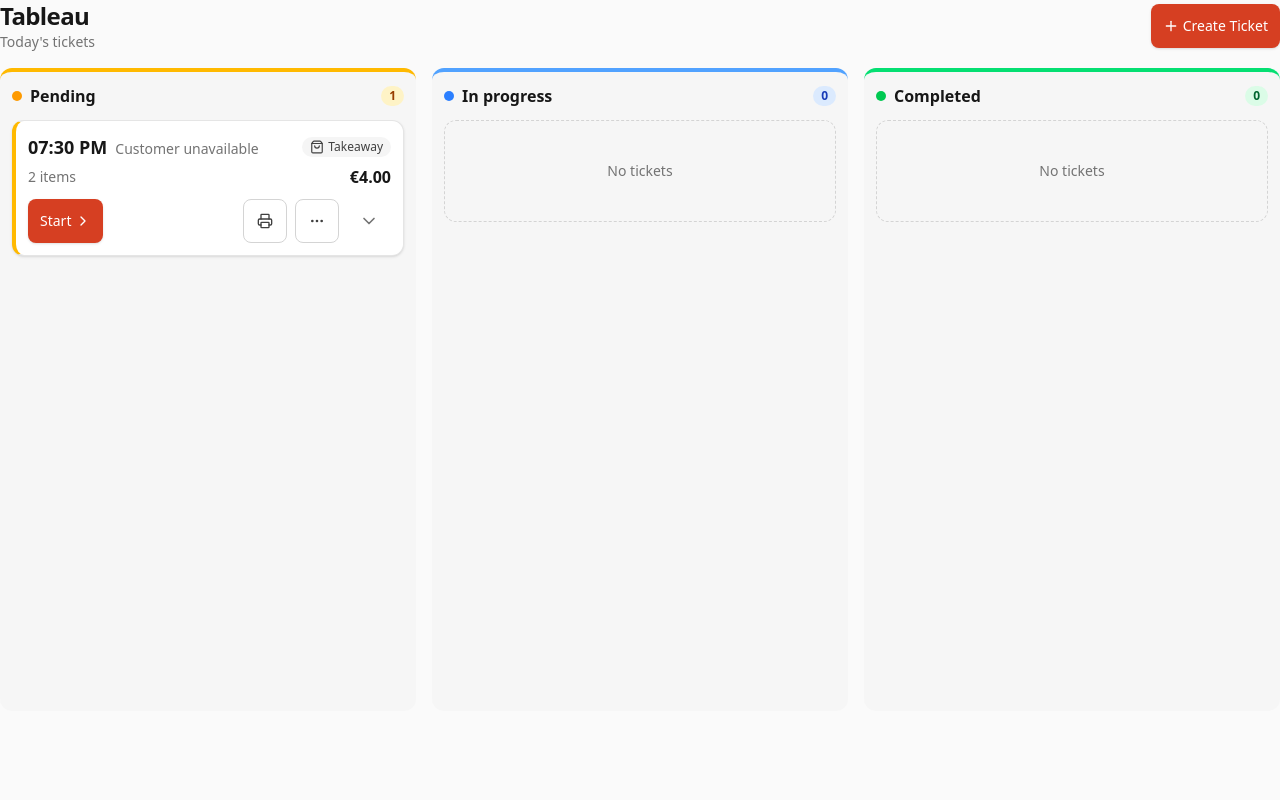
Scenario: Tableau page wiring › opens the print preview of a ticket with the Store name and closes it
Click the button named "Print ticket": x=265, y=221 [243,199,287,243]
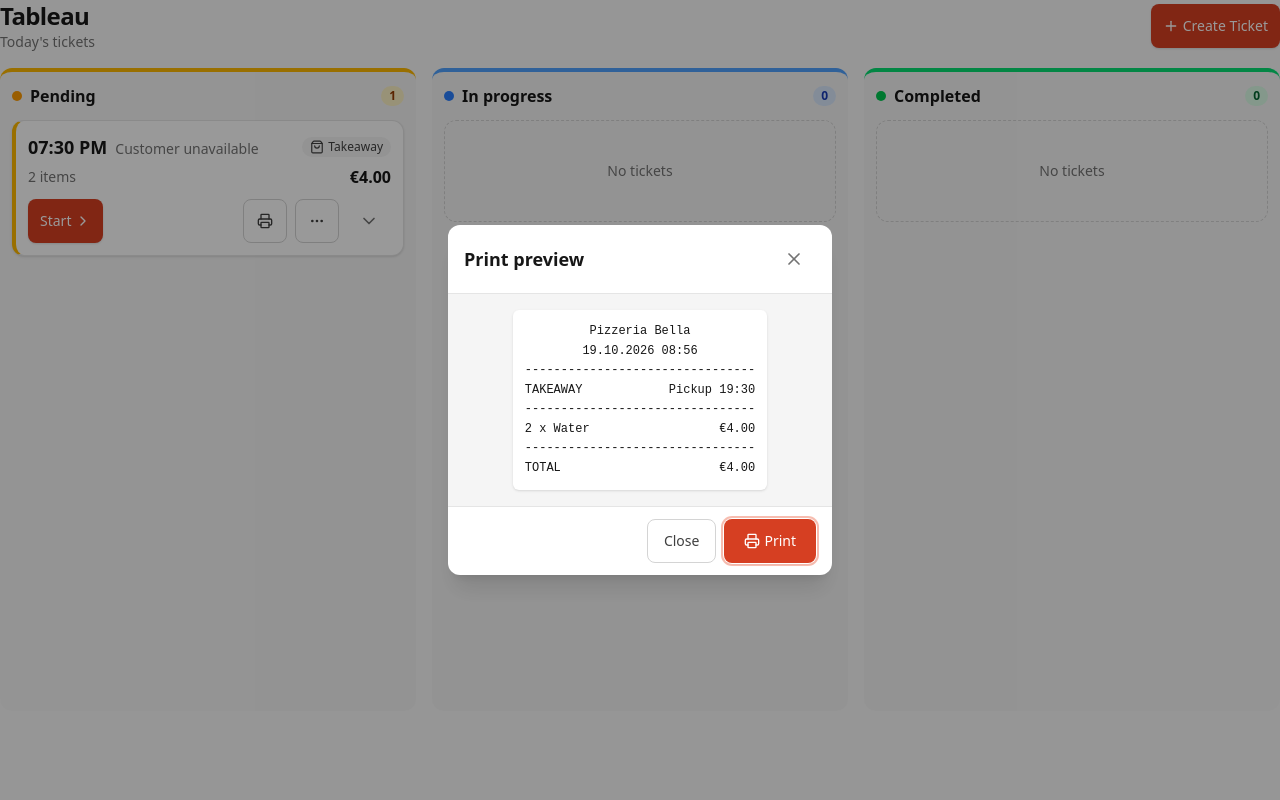
Result: the dialog "Print preview" is shown at [448,225,832,575]
Result: the text with test id "receipt" shows "Pizzeria Bella" at [525,324,755,474]
Result: the text with test id "receipt" shows "2 x Water" at [525,324,755,474]
Click the button "Print": x=770, y=541 [724,519,816,563]
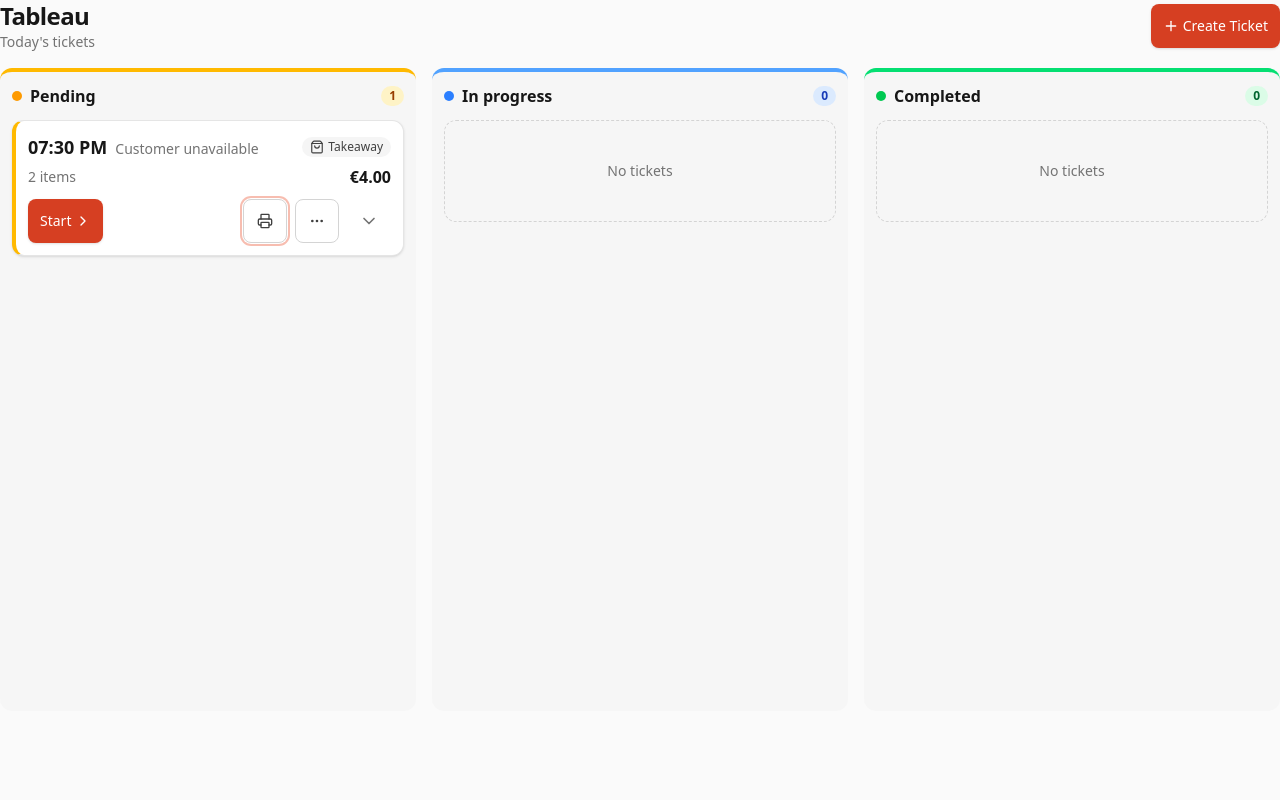
Result: the heading "Print preview" is gone
